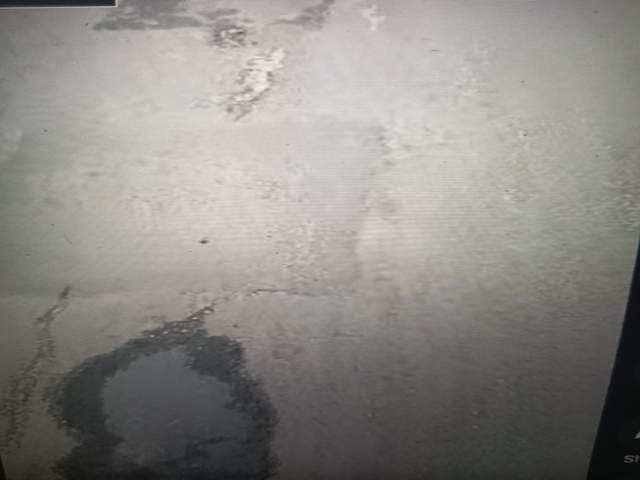pothole: (106, 403, 319, 480)
